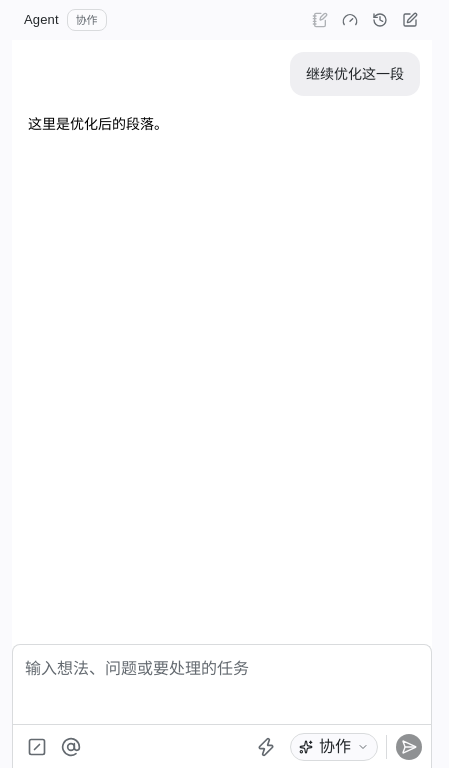
BookAgentPanel › 点击会话上下文按钮后显示当前会话与 token 占用
Step 1. Press the mouse on the button named "打开会话上下文" → (350, 20), box [336, 6, 364, 34]
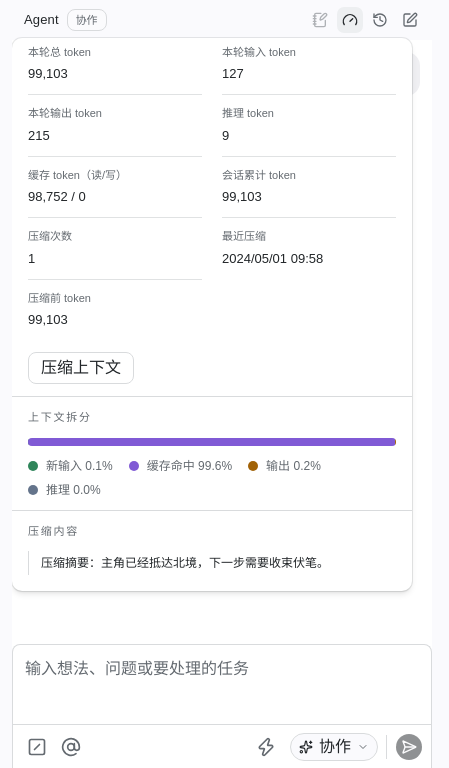
expect the text "99,103" is shown 3 times: met, box [28, 66, 68, 81]; [222, 189, 262, 204]; [28, 312, 68, 327]
expect the text "98,752 / 0" is shown: met, box [28, 189, 86, 204]
expect the text "上下文拆分" is shown: met, box [28, 411, 92, 423]
